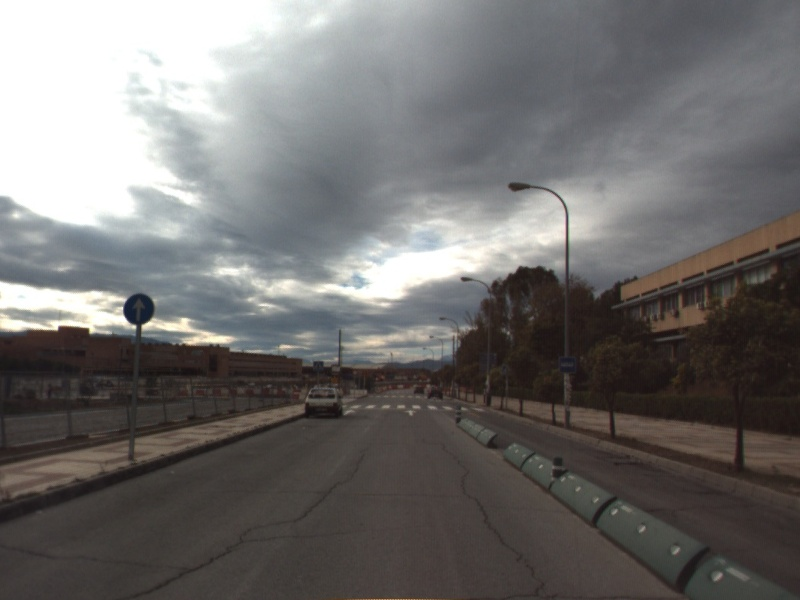STRAIGHT: (402, 407, 420, 417), (341, 407, 358, 417)
